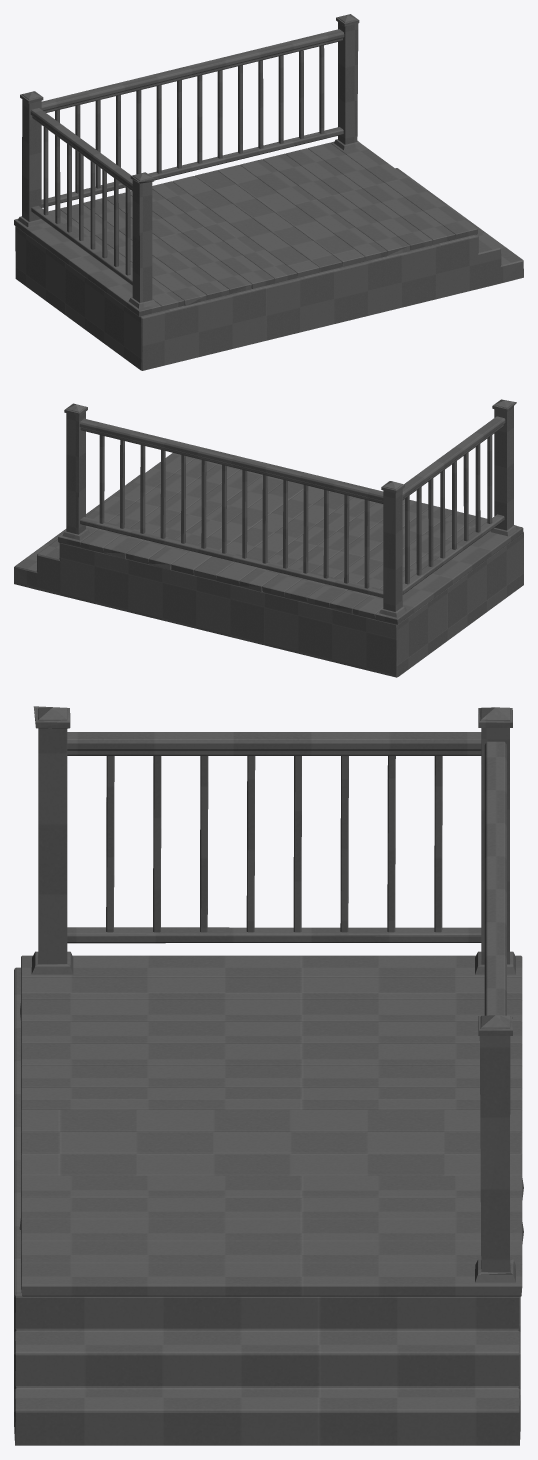
Rendered from SM_House_BackStairs_A2.glb.
The picture shows the model from 3 angles, top to bottom: view 1: azimuth 30°, elevation 25°; view 2: azimuth 150°, elevation 25°; view 3: azimuth 270°, elevation 25°; orthographic projection. The views are drawn at different scales.
Visible parts, largest first — view 1: SM_House_BackStairs_A2; view 2: SM_House_BackStairs_A2; view 3: SM_House_BackStairs_A2.
Part boxes in pixels (x1=…): SM_House_BackStairs_A2: x1=14, y1=14, x2=523, y2=370; SM_House_BackStairs_A2: x1=14, y1=399, x2=523, y2=677; SM_House_BackStairs_A2: x1=14, y1=706, x2=523, y2=1445.
Bounding box in the file's own units: 339 × 159 × 196.
1 material, 1 textured.
